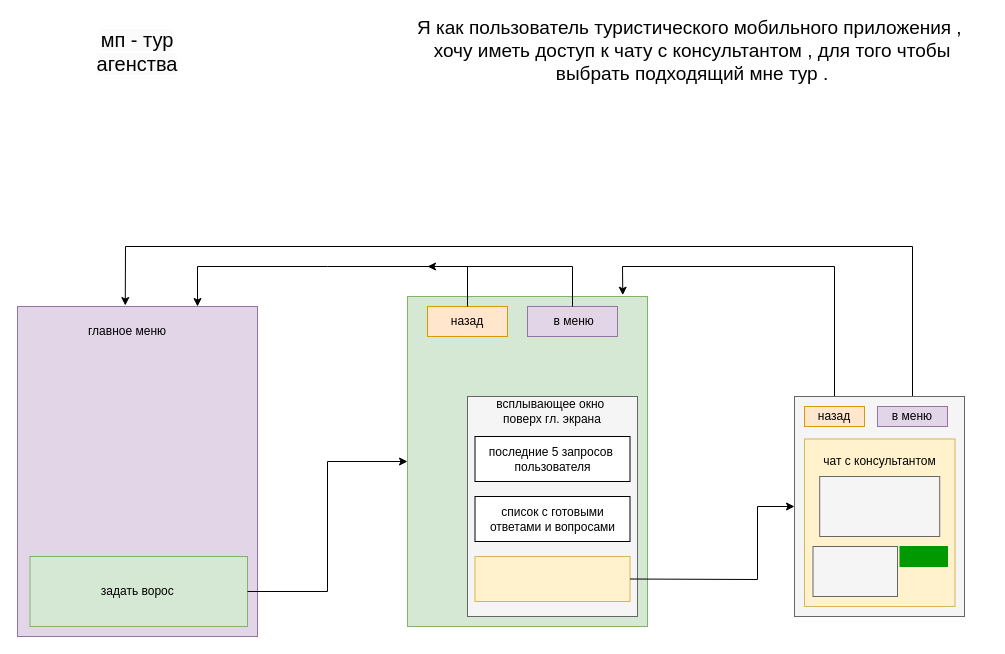
Image size: 1005x654. Some labels were removed from this diagram. Each missing label, with the centre of its shape:
"q w e r t y u i o p a s d f g h j k l z x c v b n m" goes at pixel 855 571.
"моего вопроса нет в списке" goes at pixel 552 579.
"отправить" goes at pixel 923 556.
